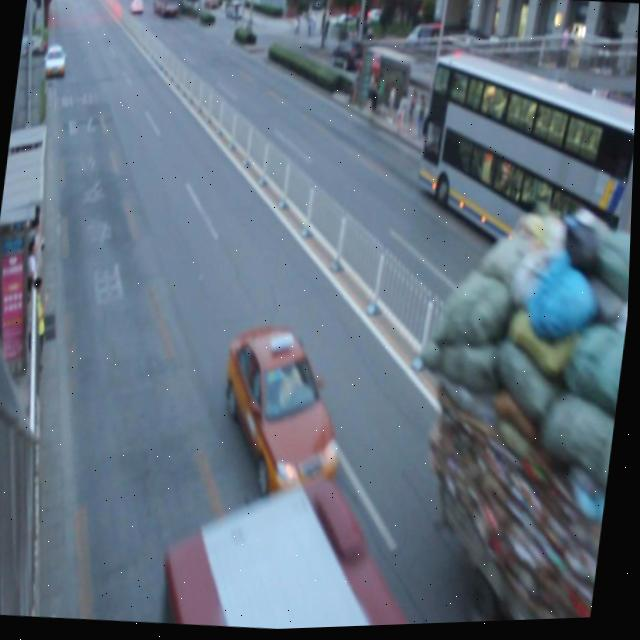bus: (420, 212, 633, 627)
car: (213, 319, 360, 501)
van: (406, 48, 638, 296), (159, 472, 429, 635)
